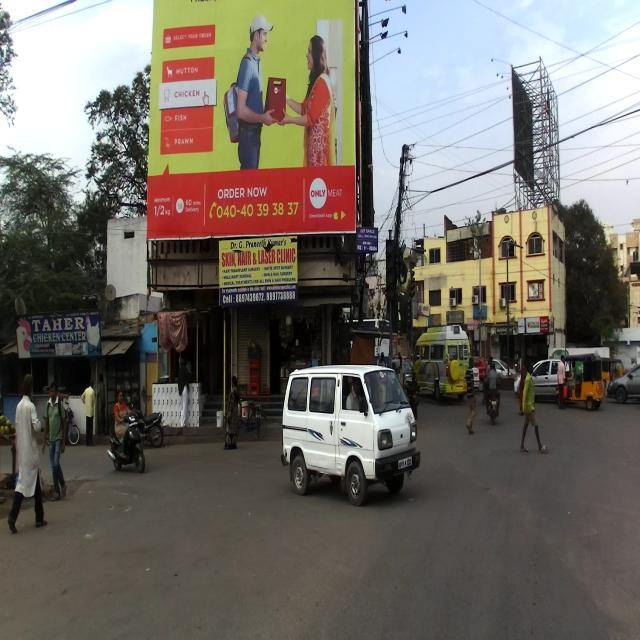car ahead at: (276, 364, 427, 510)
person ahead at: (16, 380, 50, 545), (520, 360, 549, 459), (220, 368, 244, 456)
